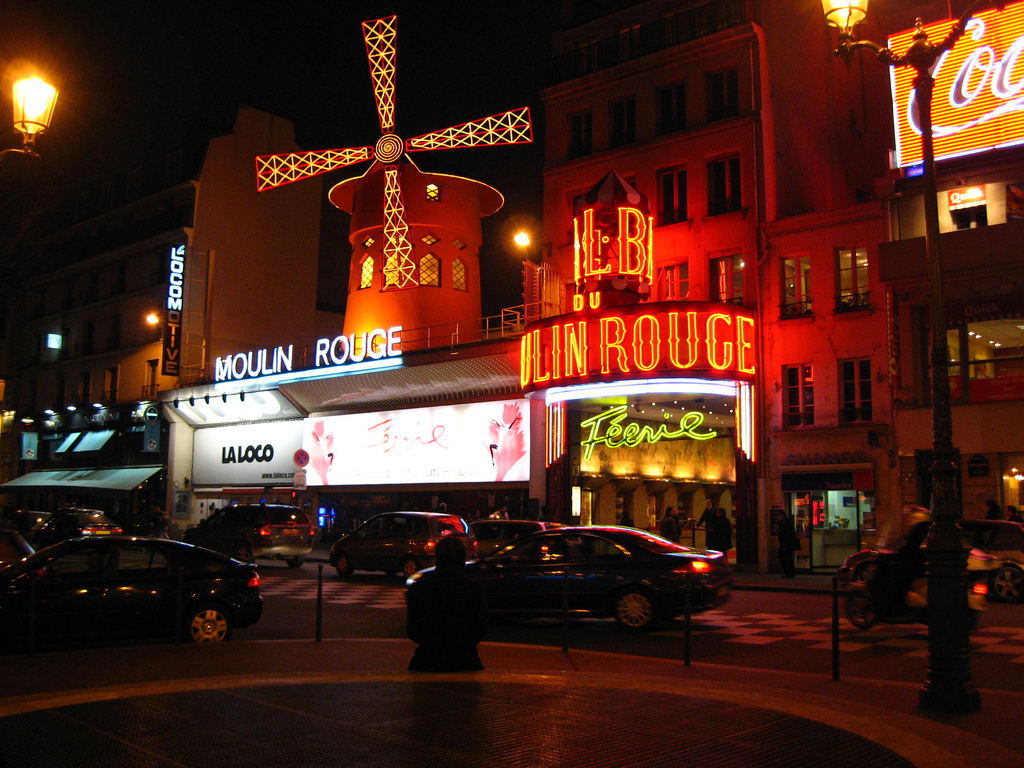car: (403, 523, 740, 643)
